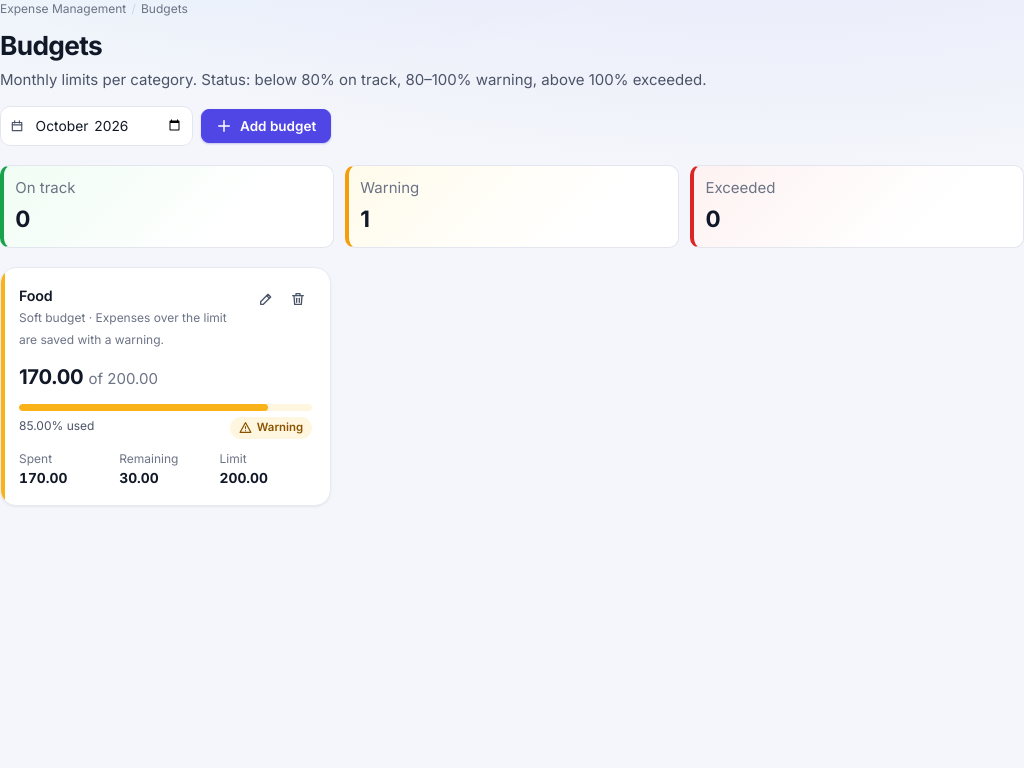
Test: BudgetsPage › edit → pre-fills limit and type and PUTs the change
The width and height of the screenshot is (1024, 768).
Expected: the heading "Food" is shown, top-left (19, 287), bottom-right (53, 304)
Click the 1st button named "Edit Food budget".
click(266, 299)  # box top-left (252, 285), bottom-right (280, 313)
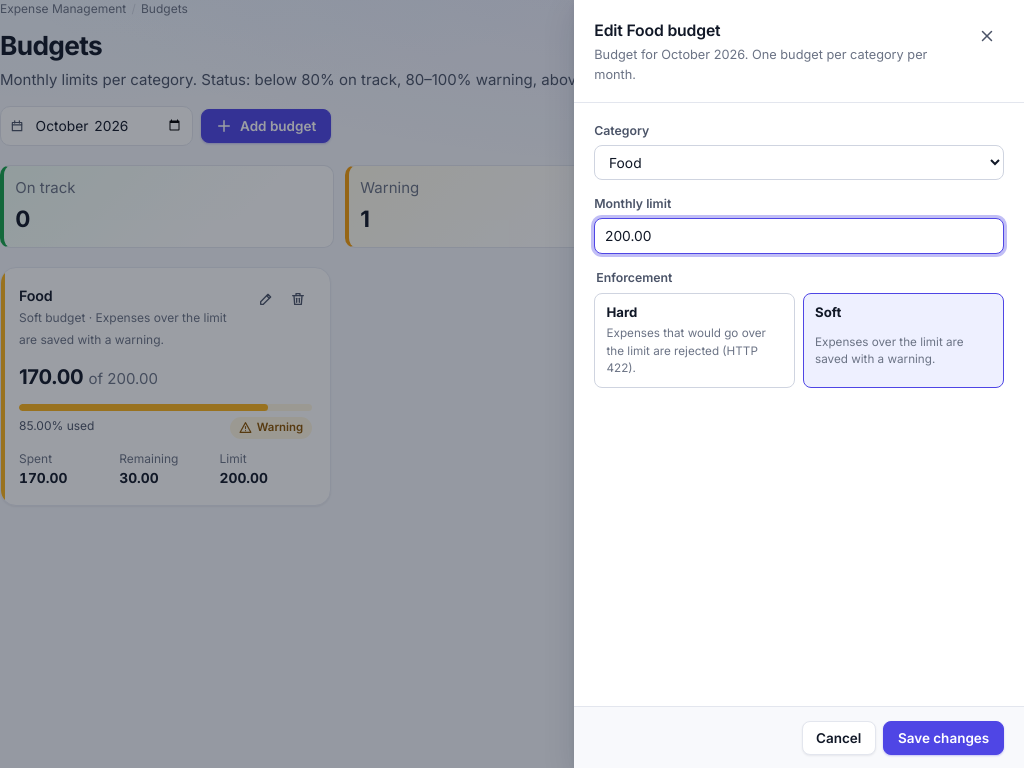
Now the radio button labelled "Soft Expenses over the limit are saved with a warning." is checked, box top-left (803, 293), bottom-right (1004, 388)
Replace the text in the field labelled "Monthly limit" with "250" at (799, 236), box top-left (594, 218), bottom-right (1004, 254)
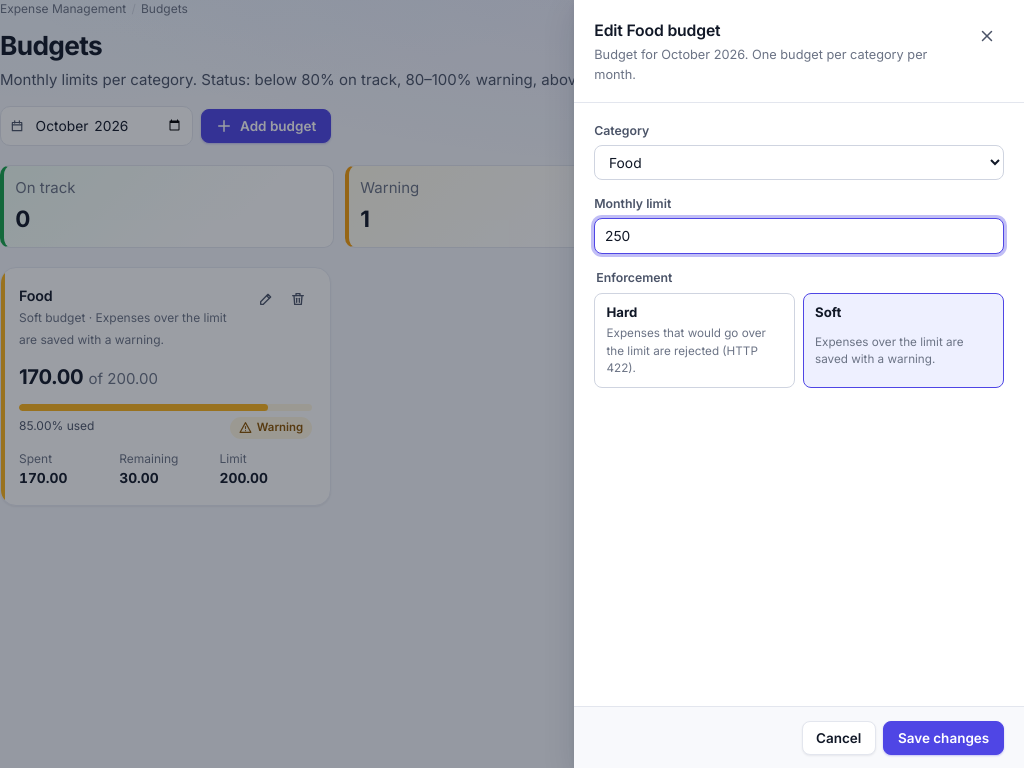
Click the radio button labelled "Hard".
click(695, 340)  # box top-left (594, 293), bottom-right (795, 388)
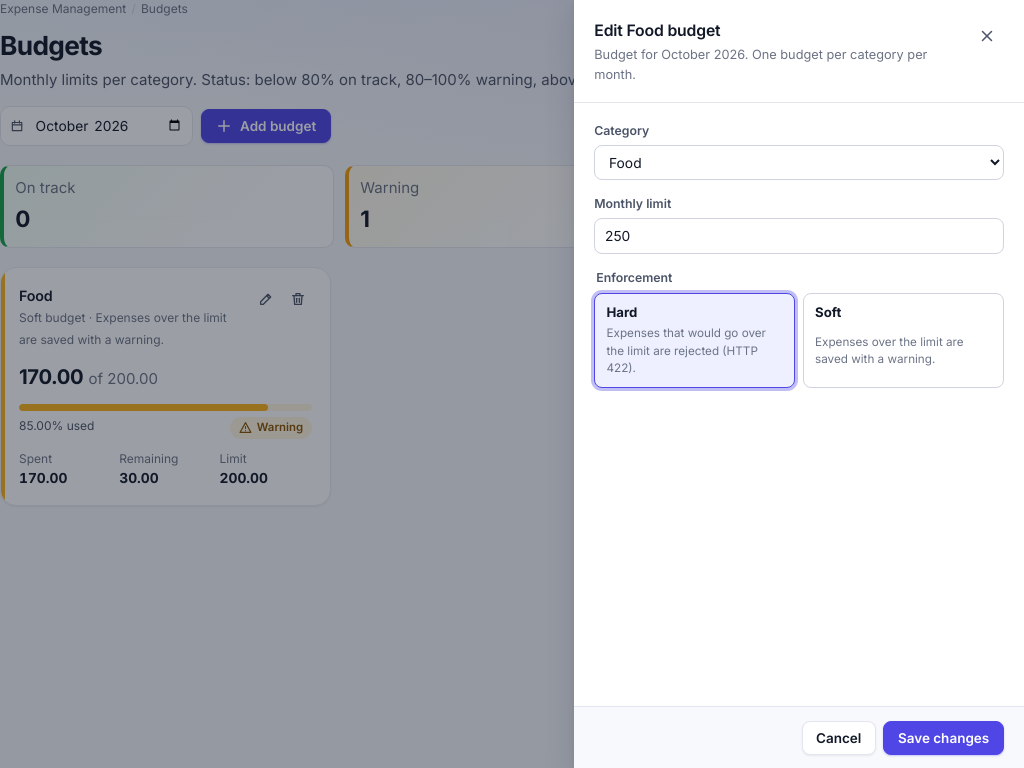
Click the button "Save changes".
click(944, 738)  # box top-left (883, 721), bottom-right (1004, 755)
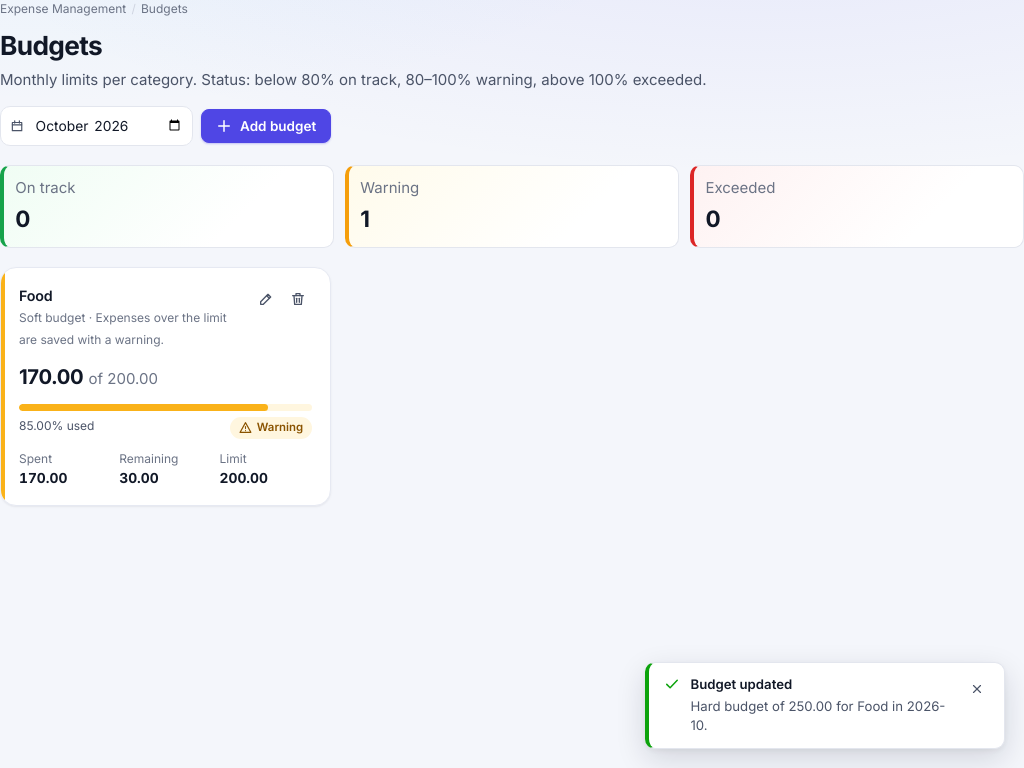
Now the text "Budget updated" is shown, box top-left (690, 676), bottom-right (792, 692)
